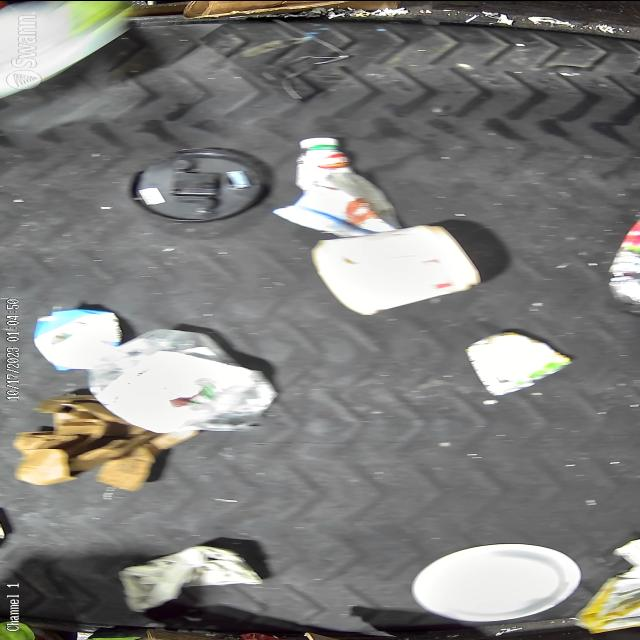non_white_jug: (34, 308, 122, 369)
plastic_bottle: (605, 210, 640, 311)
